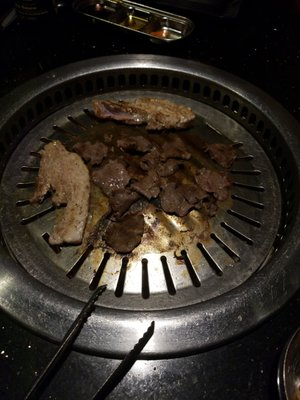burger: (1, 0, 299, 324)
